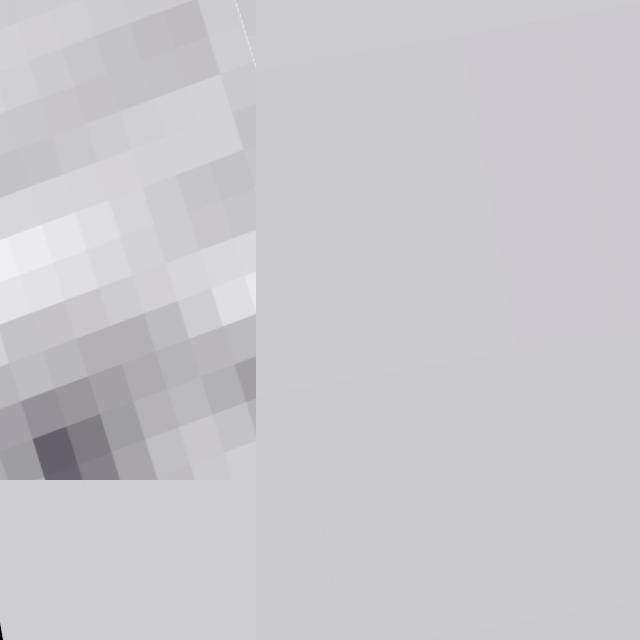drone: (0, 0, 256, 480)
